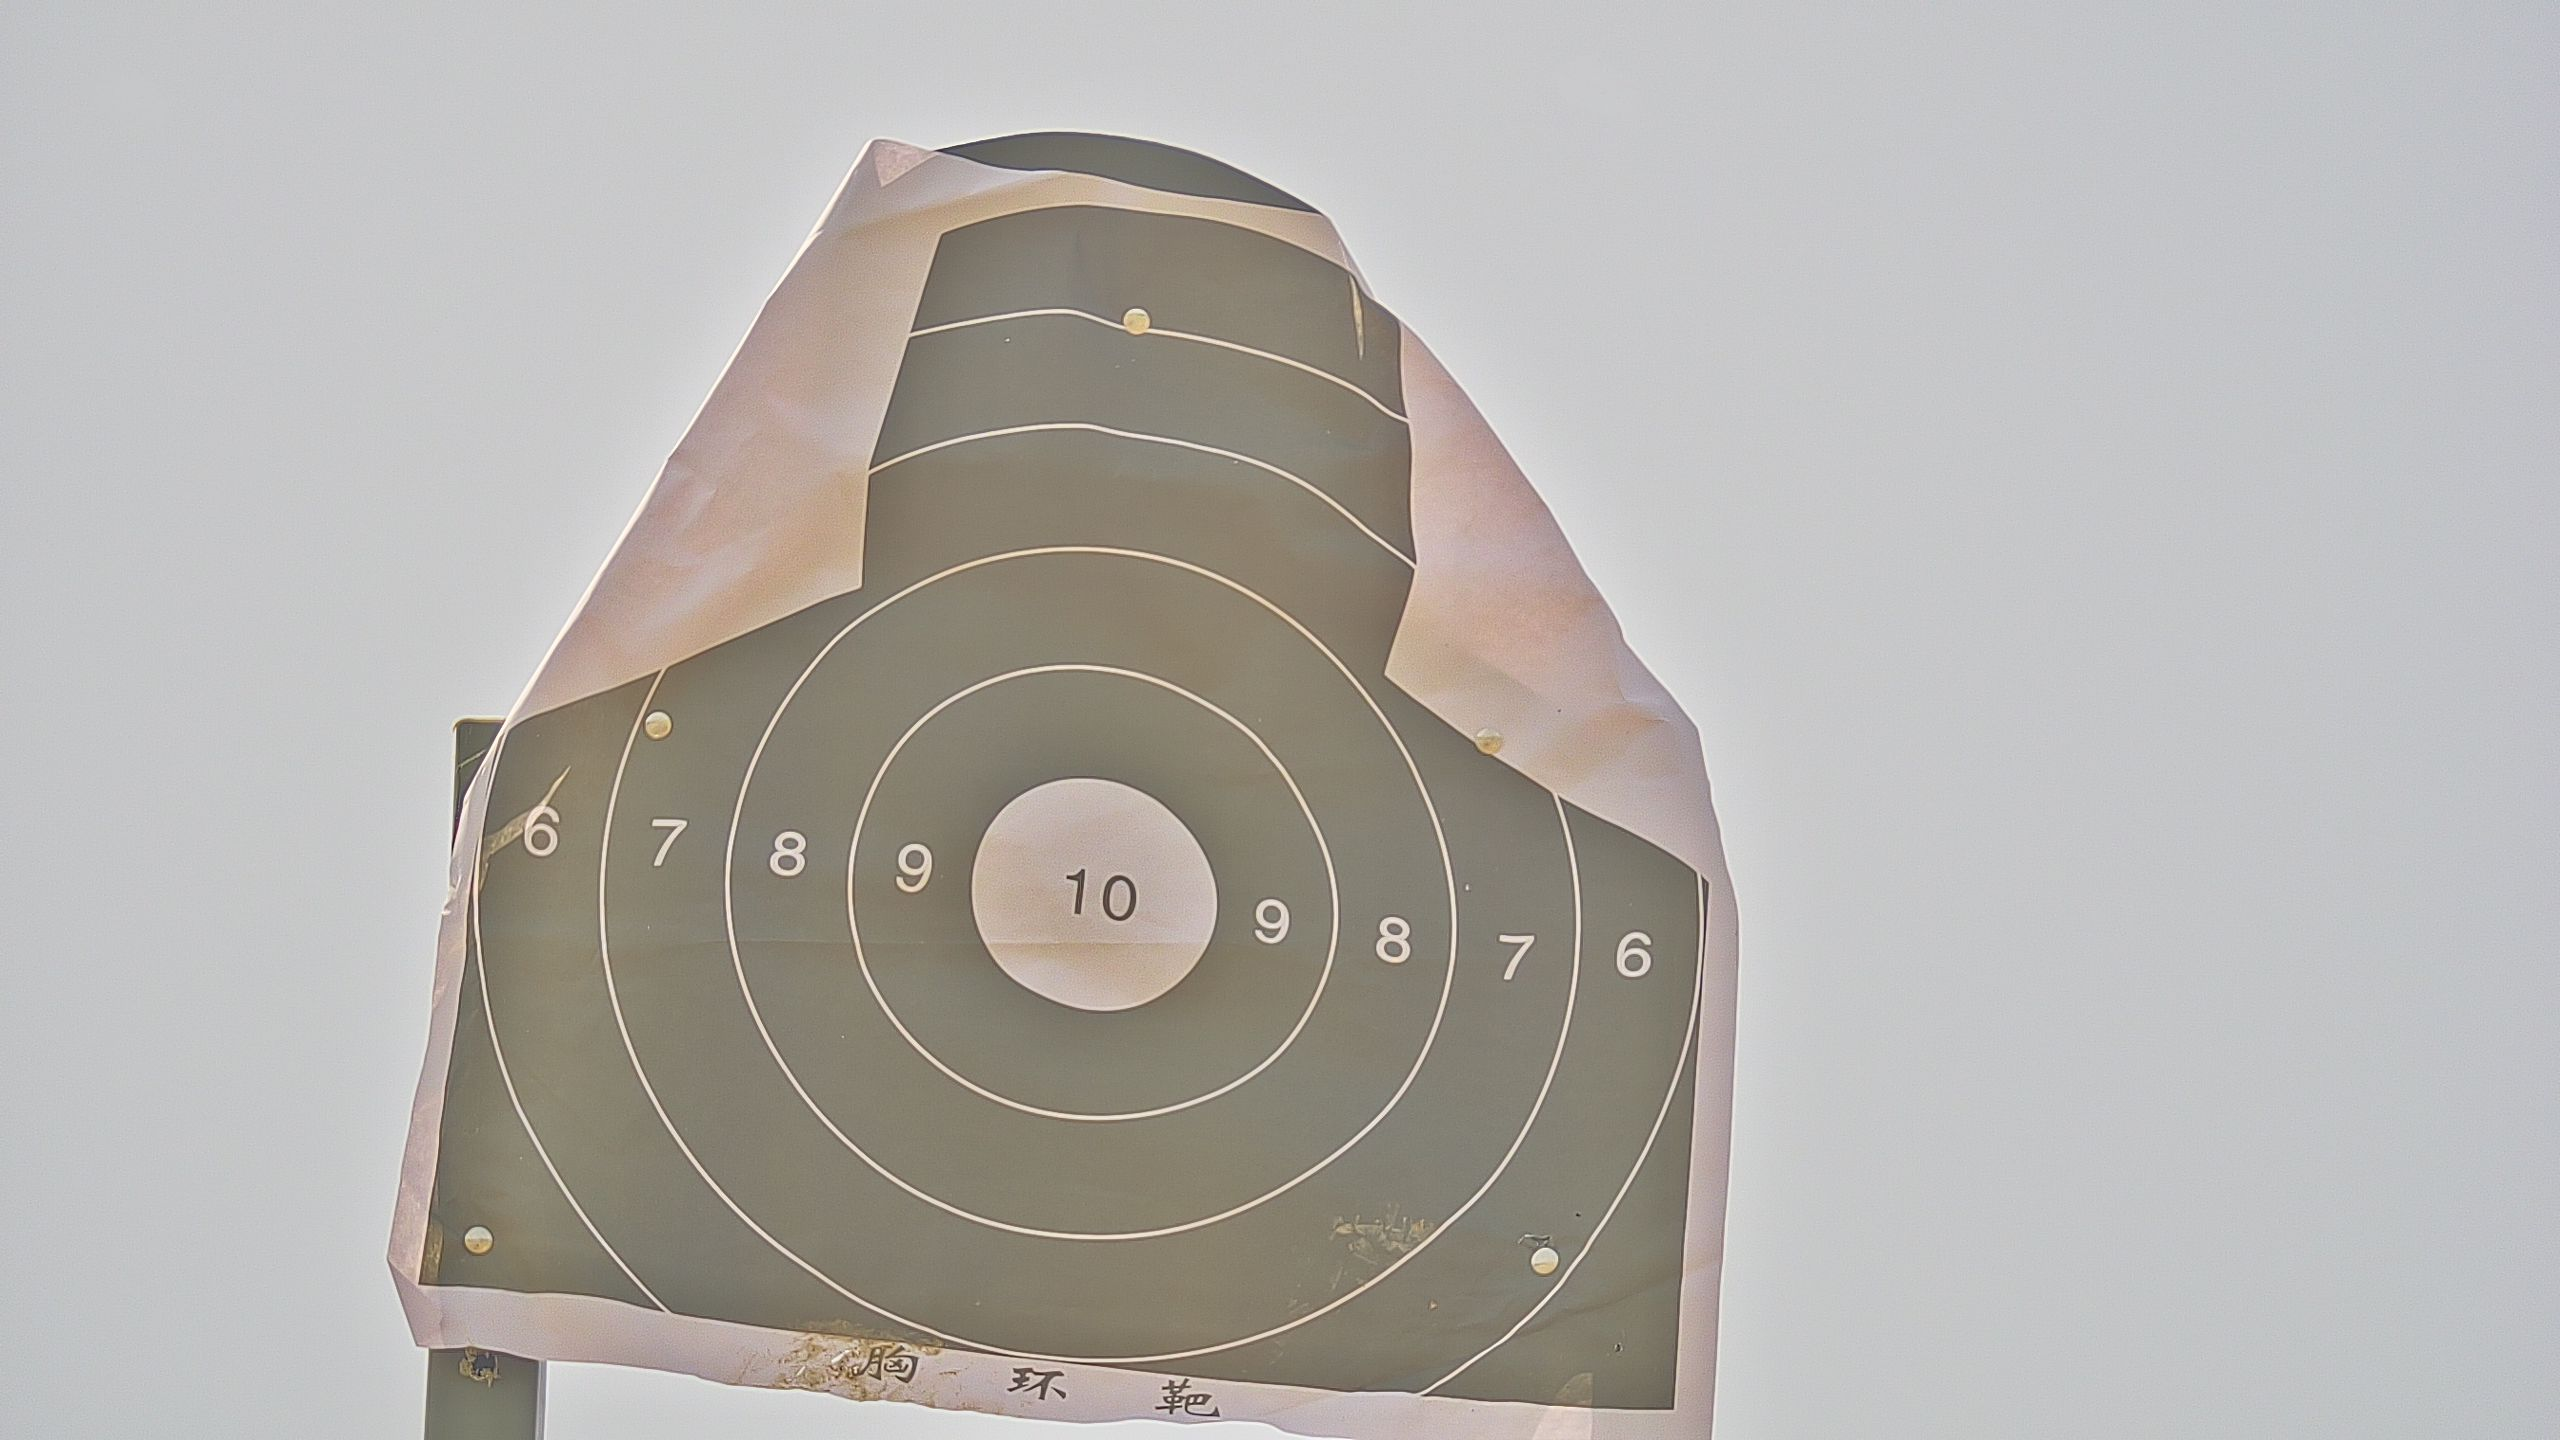target: (411, 206, 1714, 1428)
ten: (969, 777, 1220, 1013)
